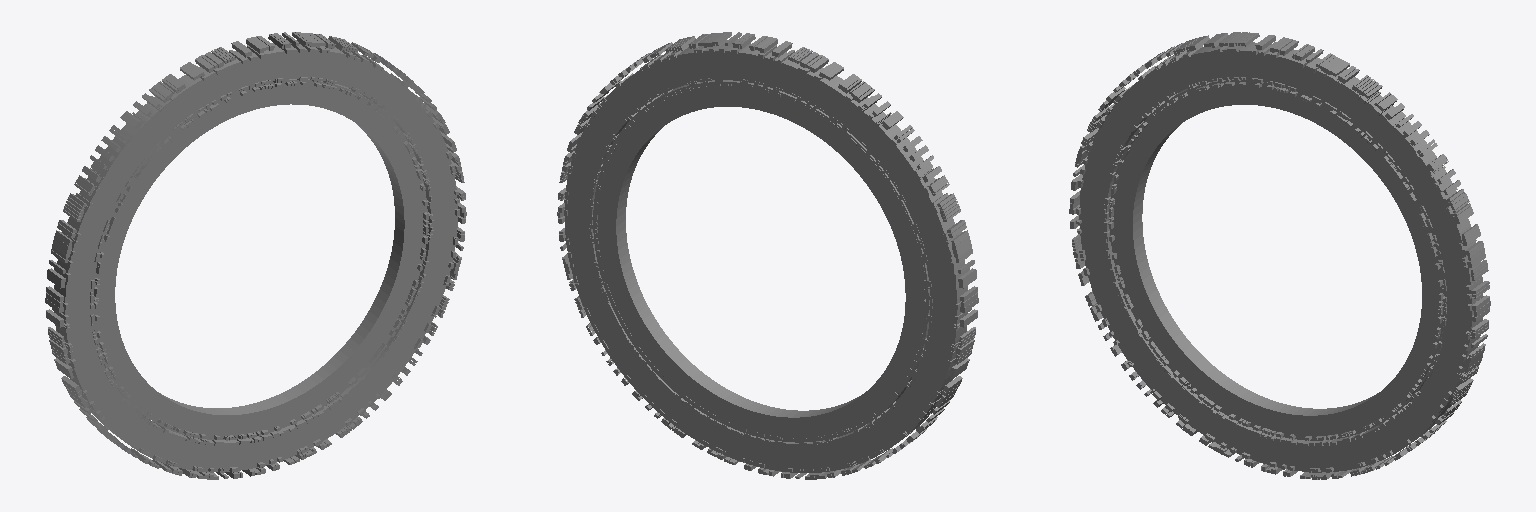
The model's file is WarpGate.obj.
The picture shows the model from 3 angles: view 1: azimuth 30°, elevation 25°; view 2: azimuth 150°, elevation 25°; view 3: azimuth 330°, elevation 25°; orthographic projection.
Parts seen in each view (by area): view 1: Shape005, Shape1, Shape004, Shape003; view 2: Shape005, Shape1, Shape004, Shape003; view 3: Shape005, Shape1, Shape004, Shape003.
Boxes of the visible parts, x1=… form: Shape005: x1=54, y1=43, x2=457, y2=471; Shape1: x1=92, y1=79, x2=427, y2=439; Shape004: x1=45, y1=32, x2=466, y2=479; Shape003: x1=90, y1=77, x2=433, y2=445; Shape005: x1=565, y1=44, x2=967, y2=472; Shape1: x1=593, y1=80, x2=929, y2=442; Shape004: x1=557, y1=32, x2=978, y2=479; Shape003: x1=589, y1=78, x2=932, y2=446; Shape005: x1=1079, y1=42, x2=1482, y2=472; Shape1: x1=1110, y1=79, x2=1444, y2=440; Shape004: x1=1069, y1=32, x2=1490, y2=479; Shape003: x1=1103, y1=77, x2=1446, y2=446.
Bounding box in the file's own units: 9.64 × 9.63 × 0.5725.